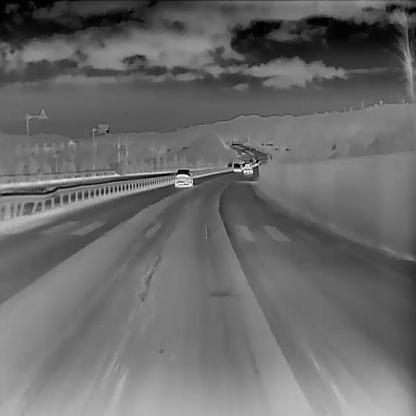car: (174, 167, 192, 187), (243, 162, 252, 173), (232, 162, 241, 172)
